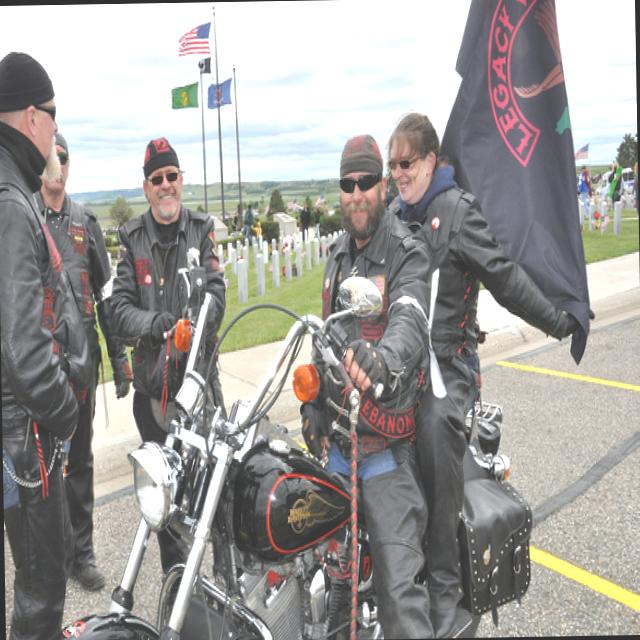Vehicle: (36, 237, 534, 640)
